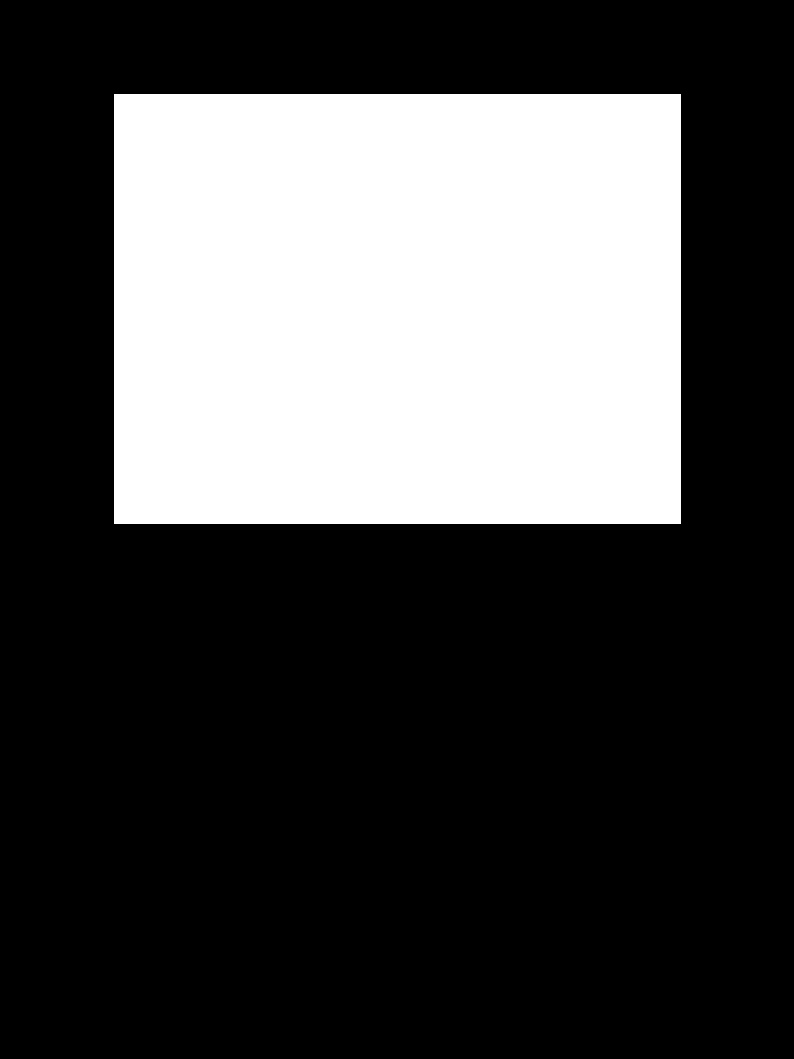table: (114, 94, 680, 523)
